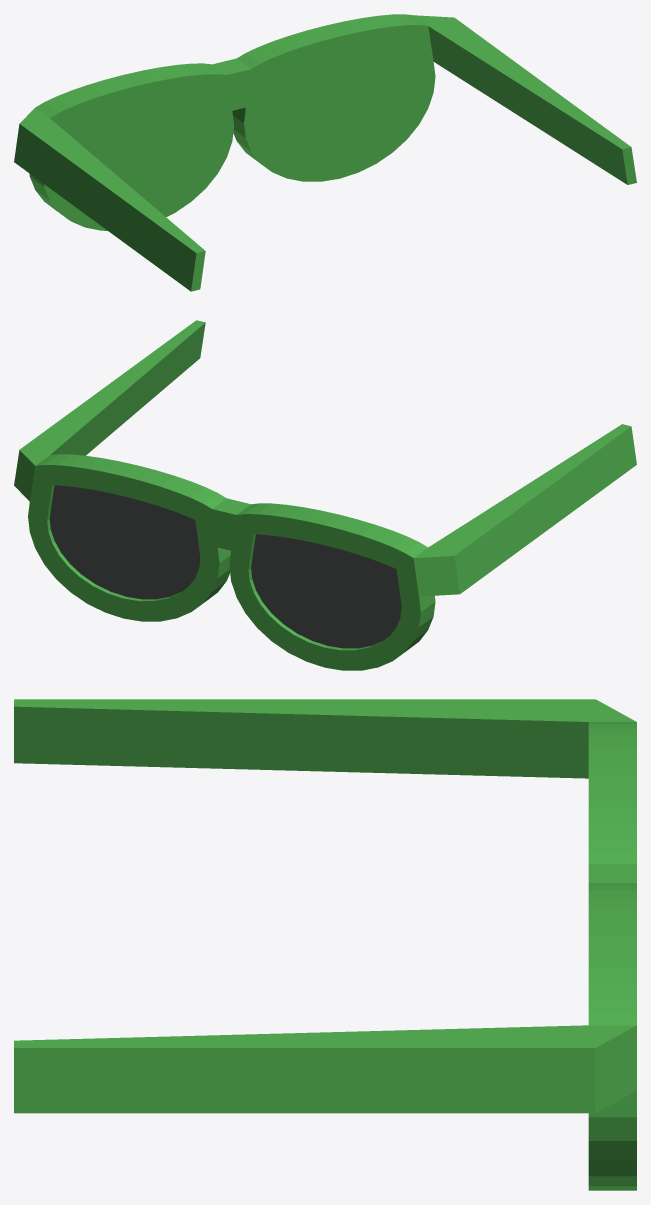
File: Sunglasses.glb
3 views of the same model, one above another, from view 1: azimuth 30°, elevation 25°; view 2: azimuth 150°, elevation 25°; view 3: azimuth 270°, elevation 25° (orthographic). The views are drawn at different scales.
Visible parts, largest first — view 1: Cylinder; view 2: Cylinder; view 3: Cylinder.
Part boxes in pixels (x1,y1,x2,y2): Cylinder: [14, 14, 636, 291]; Cylinder: [14, 320, 636, 670]; Cylinder: [14, 699, 636, 1190].
Bounding box in the file's own units: 0.6451 × 0.1967 × 0.475.
